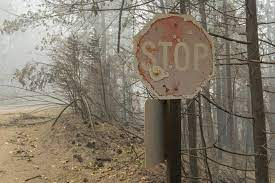Stop: (130, 8, 216, 103)
